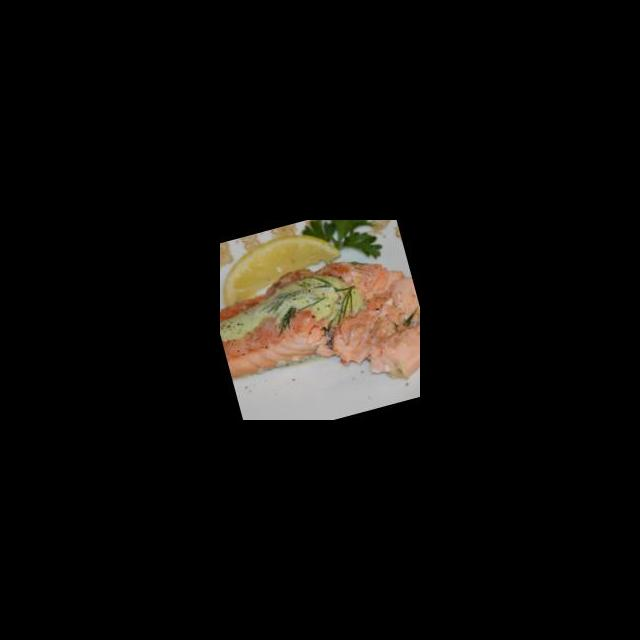ca hoi: (220, 238, 420, 420)
